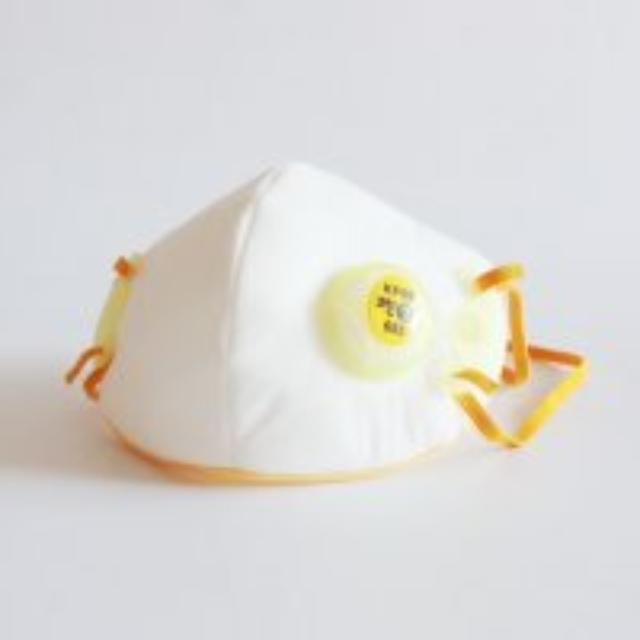masks: (54, 150, 592, 506)
